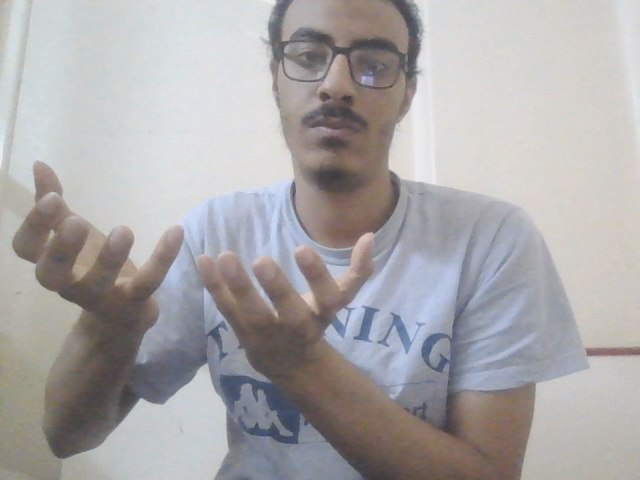What: (10, 157, 380, 369)
